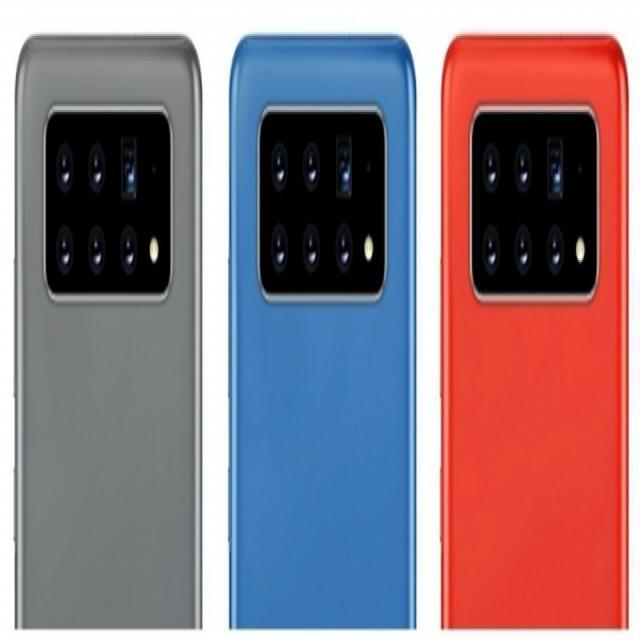phone: (441, 28, 631, 631), (231, 29, 418, 629), (16, 32, 199, 622)
